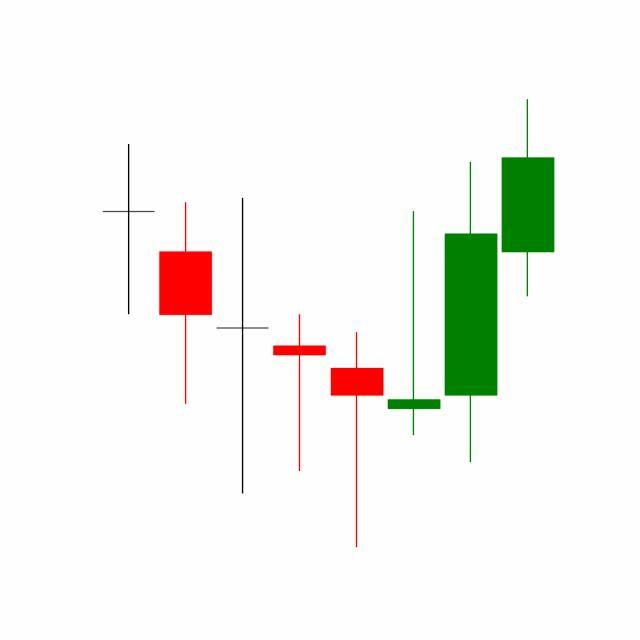Hikkake Pattern: (214, 157, 501, 548)
